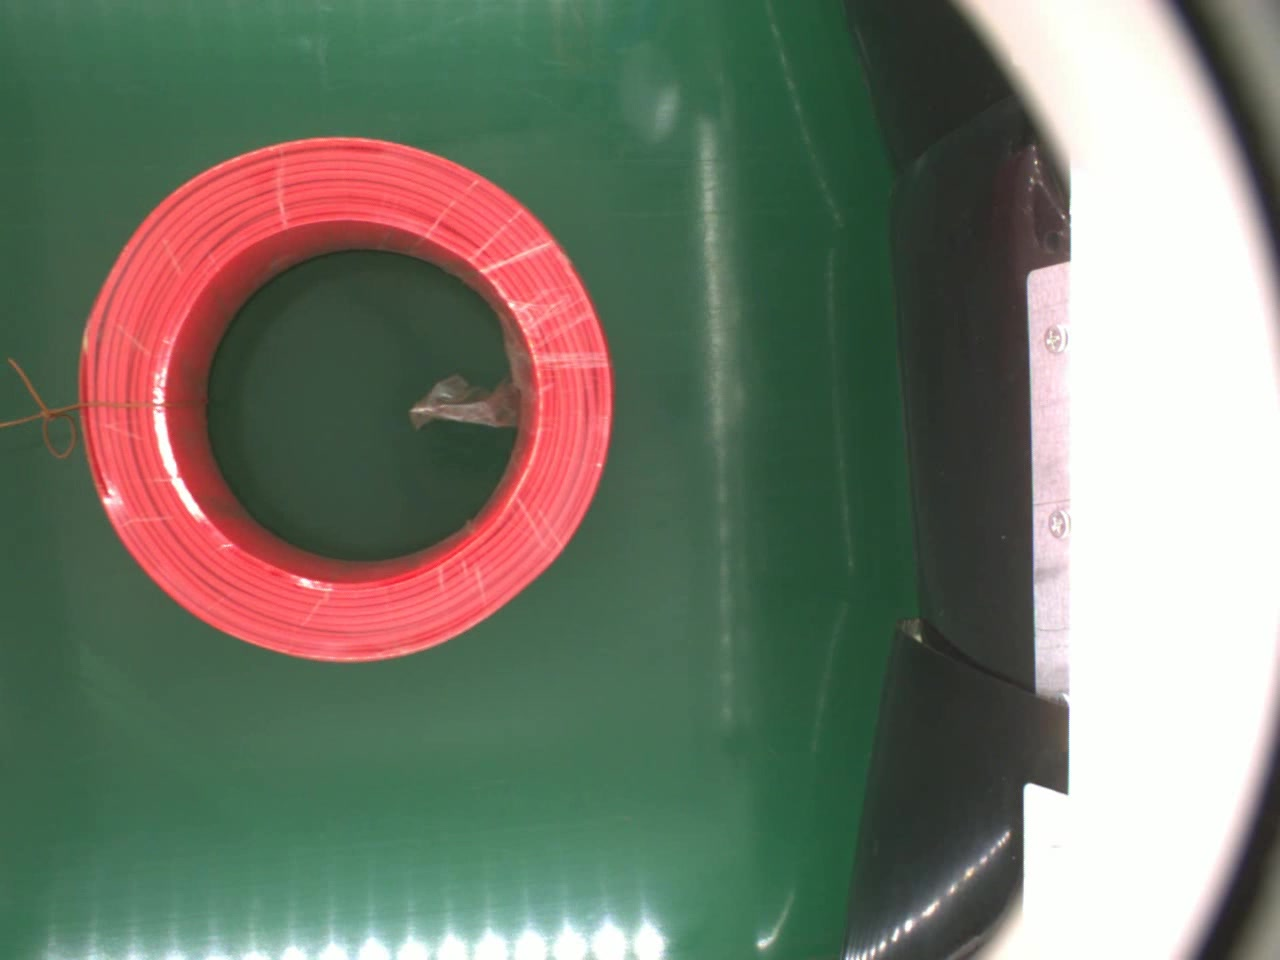red: (66, 129, 612, 667)
